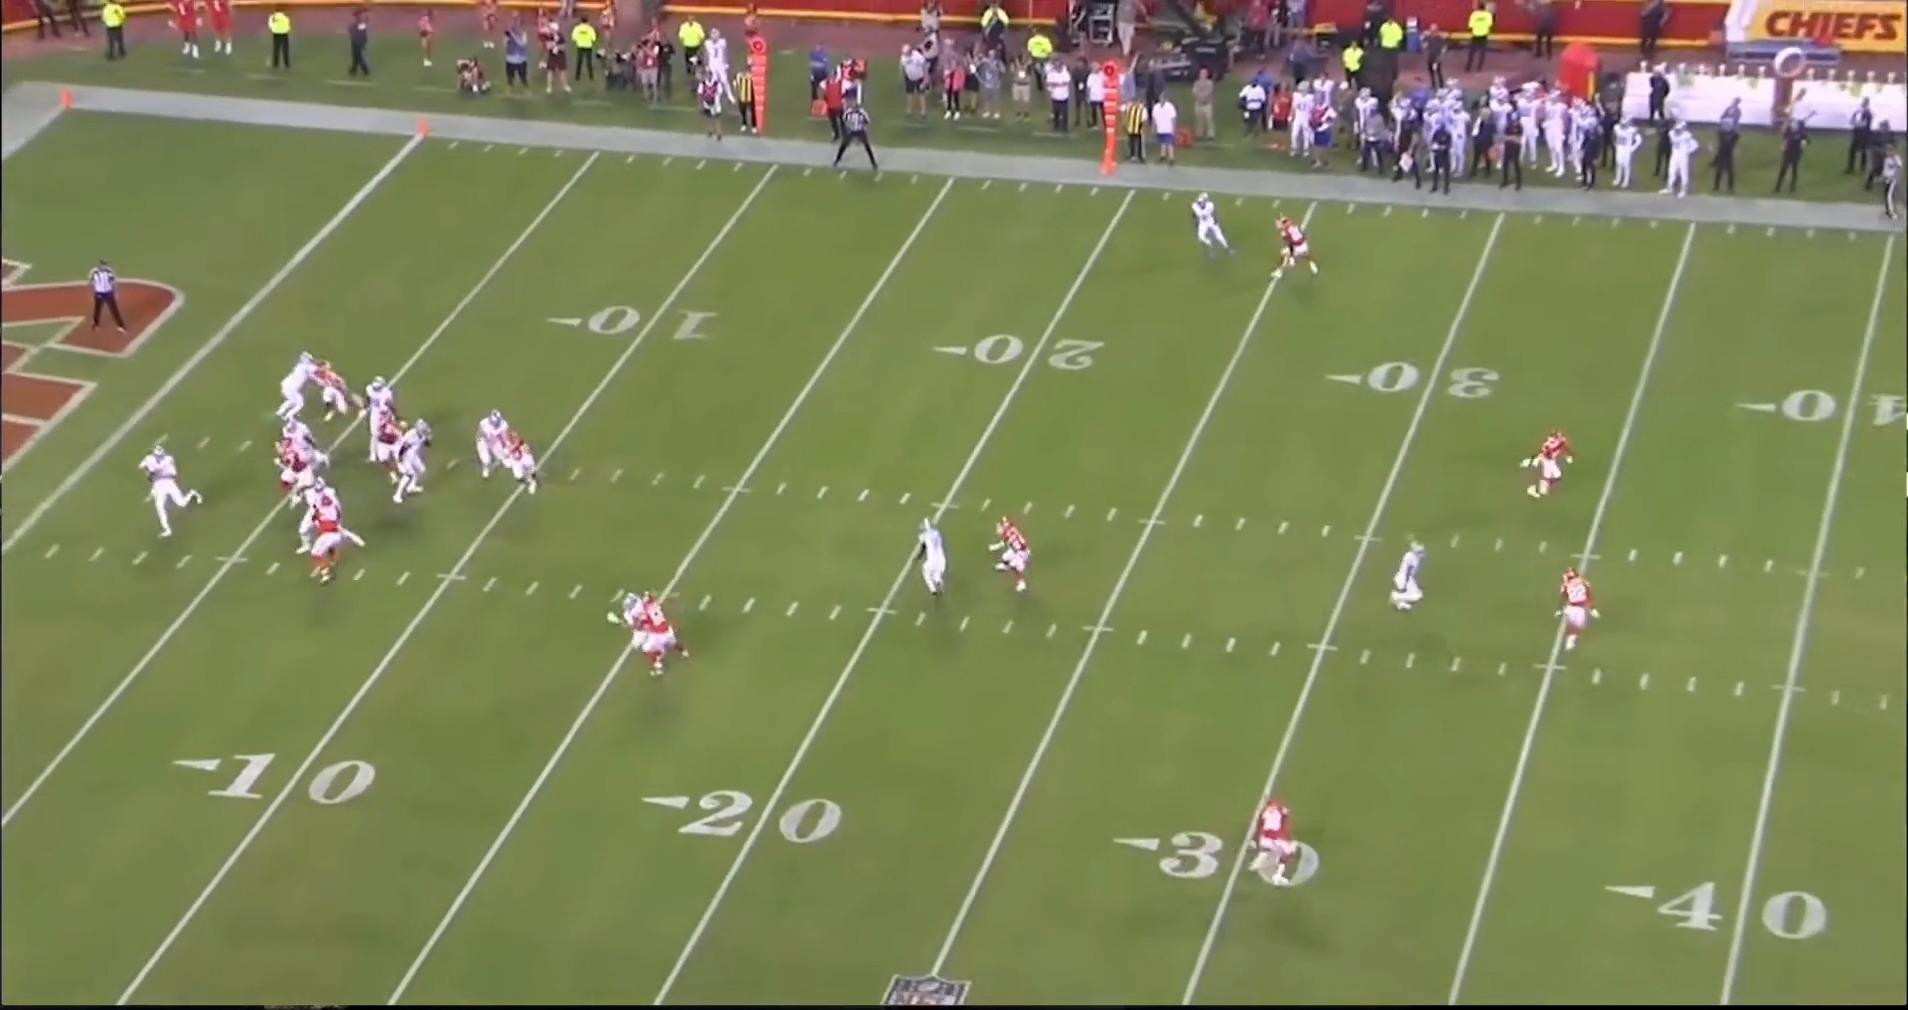player: (138, 443, 206, 540), (298, 475, 365, 555), (1250, 794, 1302, 889), (637, 593, 692, 677), (389, 416, 436, 509), (1561, 564, 1611, 650), (279, 438, 331, 517), (991, 515, 1040, 596), (1525, 430, 1579, 502), (498, 420, 547, 499), (915, 518, 961, 602), (476, 408, 525, 486), (1270, 213, 1321, 286), (273, 348, 324, 421), (1185, 192, 1235, 265), (359, 374, 397, 470), (312, 358, 363, 429), (306, 495, 345, 587), (1386, 538, 1431, 616), (273, 417, 334, 471), (373, 401, 409, 485), (603, 591, 650, 655)
ref: (832, 97, 883, 172), (88, 260, 133, 340), (1874, 149, 1908, 231)
